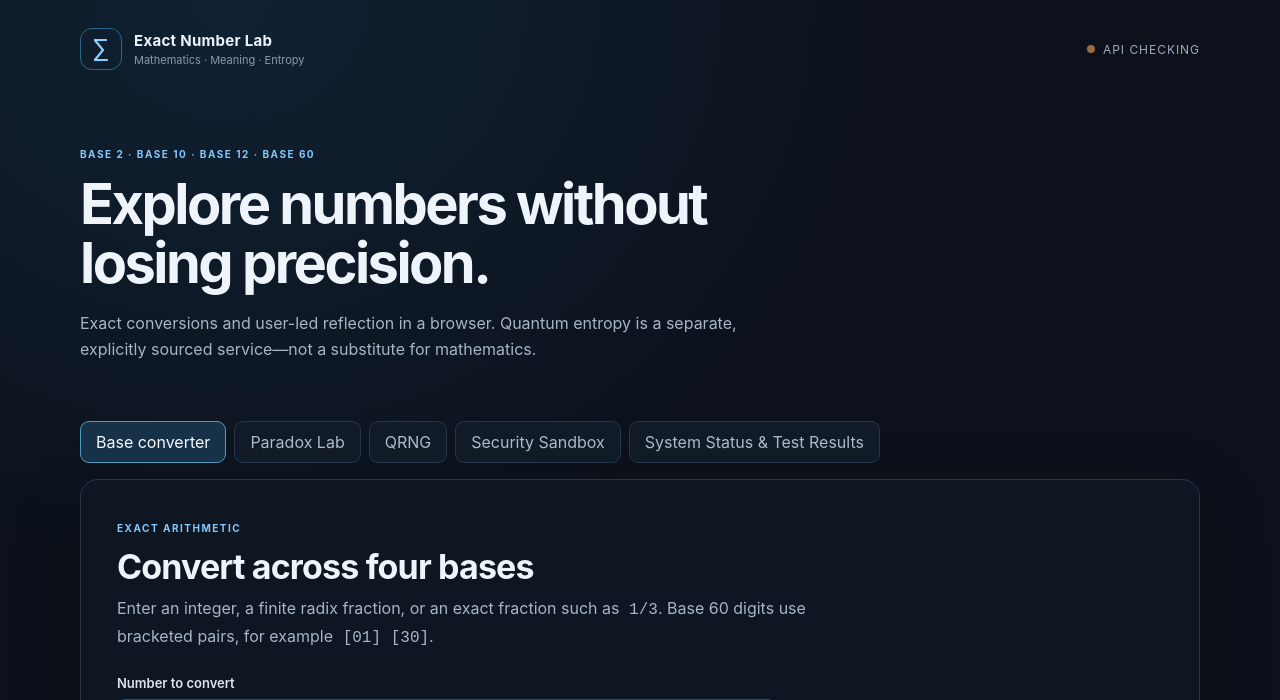
Test case: application interactions › verifies live QRNG connectivity from System Status without displaying the probe sample
This screenshot has width=1280, height=700.
Click the button "System Status & Test Results" at (754, 442), box [629,420,880,462]
(page scrolled)
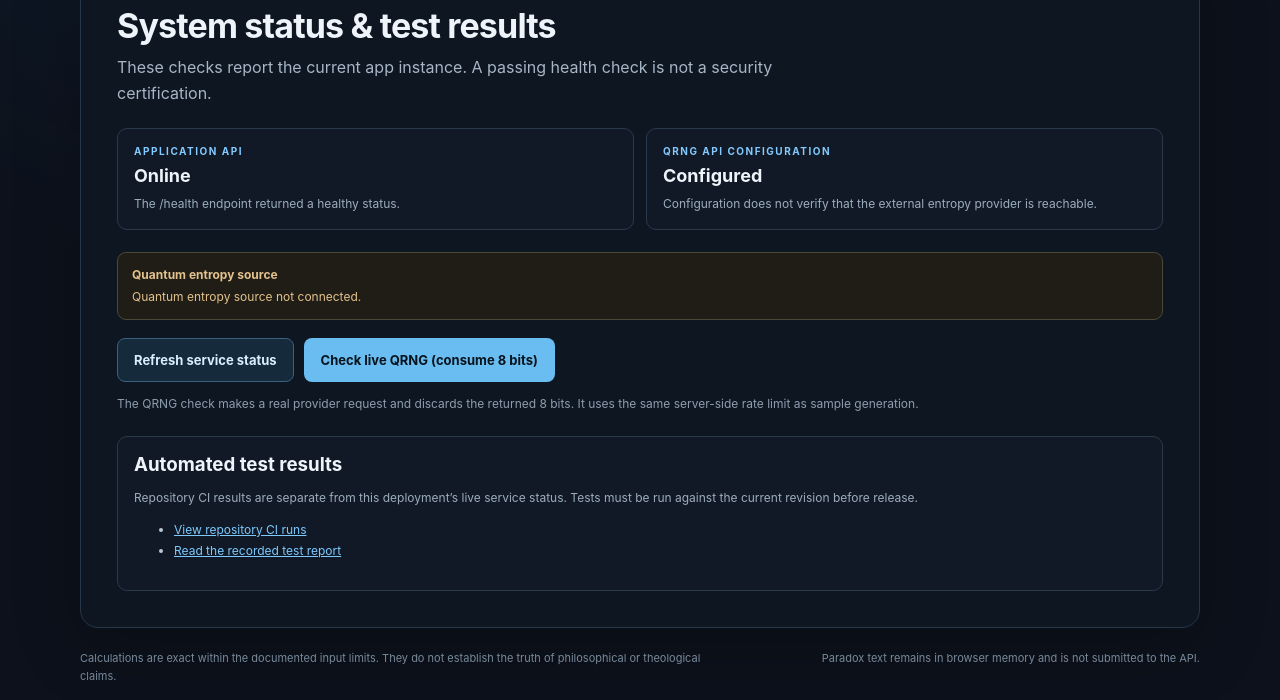
Check: the text "Online" is shown, box [134,165,191,186]
Click the button "Check live QRNG (consume 8 bits)" at (429, 360), box [304,338,555,382]
(page scrolled)
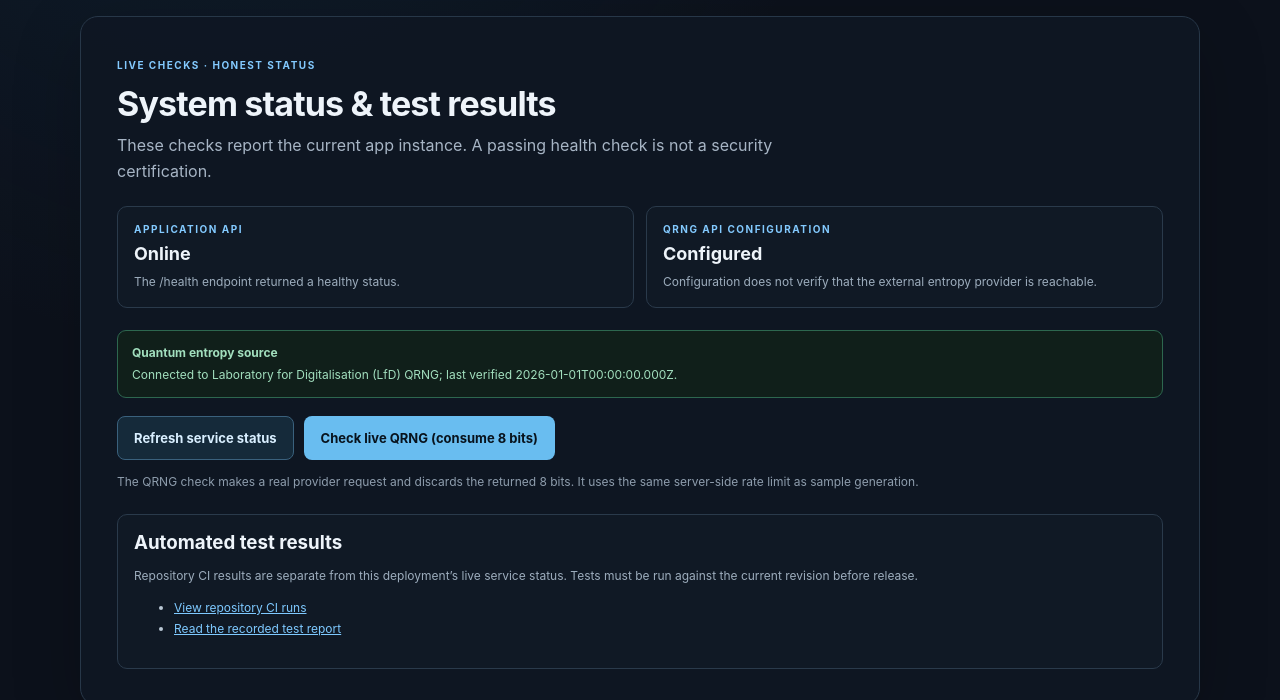
Check: the element that starts with "LIVE CHECKS · HONEST STATUS" shows "Connected to Laboratory for Digitalisation", box [132,368,677,382]
